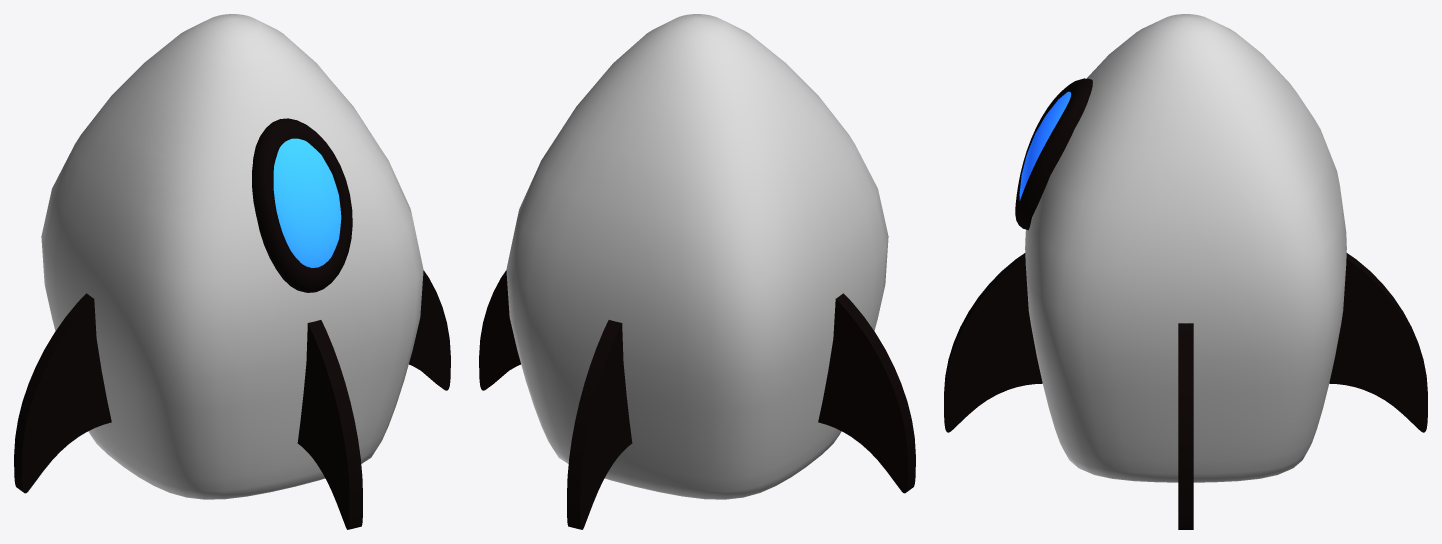
File: rocket 02.fbx
3 views of the same model, side by side, from view 1: azimuth 30°, elevation 25°; view 2: azimuth 150°, elevation 25°; view 3: azimuth 270°, elevation 25° (orthographic). The views are drawn at different scales.
Visible parts, largest first — view 1: SS, Cap_2_4, Torus, Sphere, Cap_1_3, Extrude_3, Cap_1_2, Extrude_4; view 2: SS, Cap_1_4, Cap_2, Extrude, Cap_2_2, Extrude_4; view 3: SS, Cap_1, Cap_2_3, Torus, Extrude_2, Sphere, Extrude, Extrude_3.
Boxes of the visible parts, bbox=[...] form: SS: bbox=[41, 14, 423, 499]; Cap_2_4: bbox=[22, 299, 111, 493]; Torus: bbox=[252, 118, 352, 292]; Sphere: bbox=[273, 138, 341, 267]; Cap_1_3: bbox=[297, 323, 349, 529]; Extrude_3: bbox=[308, 320, 362, 529]; Cap_1_2: bbox=[409, 270, 450, 390]; Extrude_4: bbox=[14, 293, 93, 492]; SS: bbox=[506, 14, 888, 499]; Cap_1_4: bbox=[818, 299, 907, 493]; Cap_2: bbox=[580, 323, 632, 529]; Extrude: bbox=[567, 320, 621, 529]; Cap_2_2: bbox=[479, 270, 520, 390]; Extrude_4: bbox=[836, 293, 915, 492]; SS: bbox=[1025, 14, 1346, 482]; Cap_1: bbox=[1329, 259, 1427, 432]; Cap_2_3: bbox=[944, 259, 1042, 432]; Torus: bbox=[1015, 78, 1092, 230]; Extrude_2: bbox=[1178, 323, 1193, 529]; Sphere: bbox=[1019, 91, 1071, 200]; Extrude: bbox=[1346, 253, 1427, 397]; Extrude_3: bbox=[944, 253, 1025, 397].
Bounding box in the file's own units: 255 × 239 × 255.
